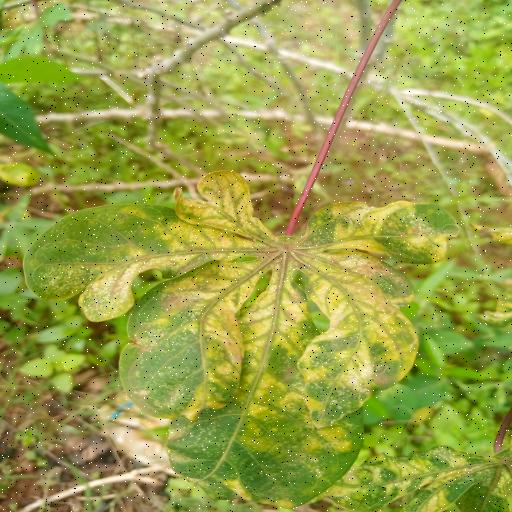Cassava_Mosaic: (26, 166, 467, 512)
